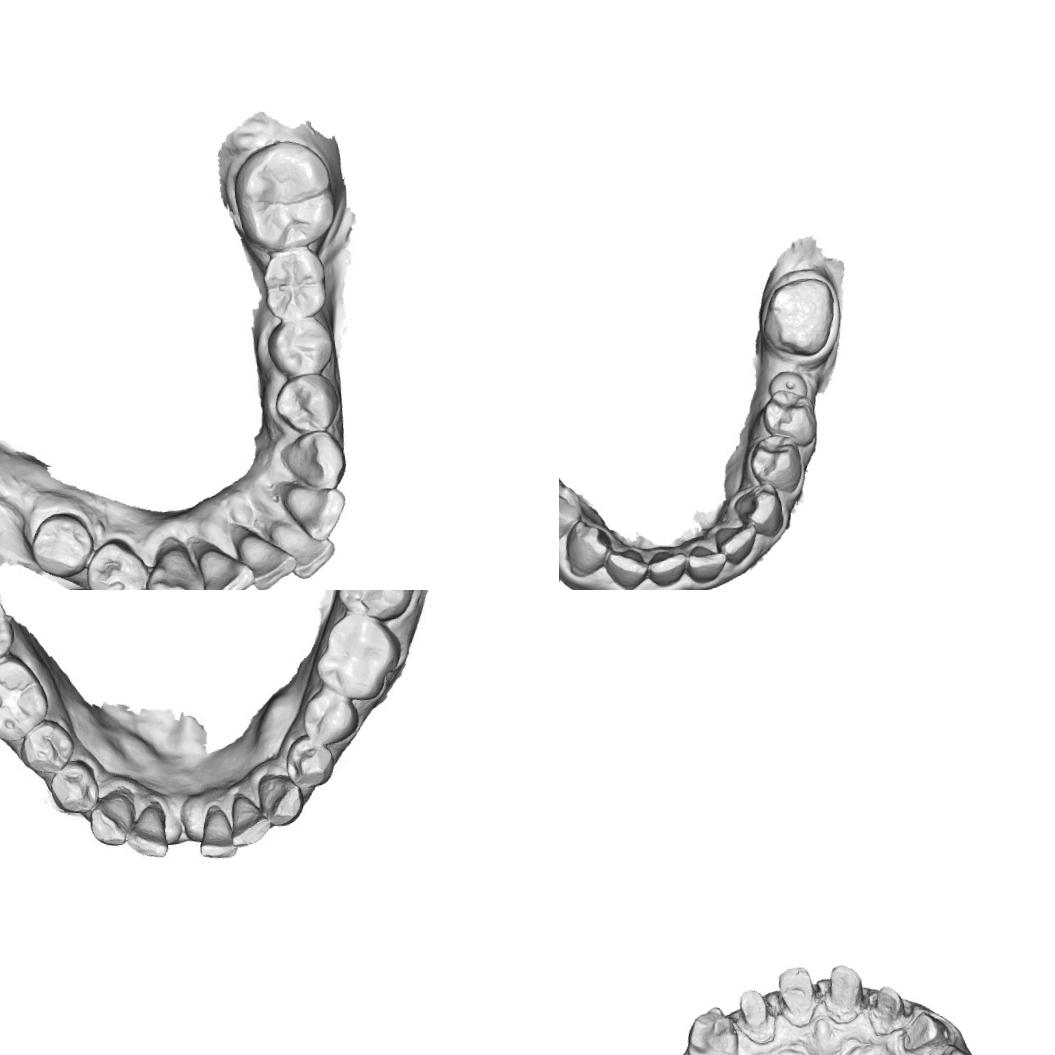canine: (274, 428, 350, 498), (731, 478, 792, 542), (559, 516, 617, 579), (677, 1002, 744, 1055), (80, 790, 137, 852), (141, 539, 207, 590), (258, 771, 308, 829)
crown: (774, 961, 821, 1028), (822, 958, 868, 1021), (898, 1008, 952, 1054), (732, 980, 774, 1038), (867, 982, 907, 1028)
implant: (766, 368, 813, 410)
incisor: (268, 514, 338, 584), (280, 481, 350, 546), (238, 527, 297, 590), (199, 540, 257, 590), (122, 804, 170, 864), (192, 799, 236, 862), (227, 790, 272, 850), (682, 534, 730, 586), (711, 520, 763, 567), (643, 543, 694, 590), (601, 542, 649, 590)
molar: (227, 134, 344, 258), (307, 610, 406, 705), (756, 272, 842, 364), (254, 241, 330, 321), (0, 653, 48, 743), (327, 590, 424, 625)
premolar: (26, 509, 96, 581), (264, 312, 337, 380), (272, 372, 342, 438), (746, 430, 810, 500), (756, 386, 822, 450), (82, 534, 153, 590), (14, 717, 76, 780), (300, 686, 360, 746), (45, 756, 98, 816), (284, 734, 336, 790), (559, 471, 588, 549), (903, 1039, 986, 1055)
